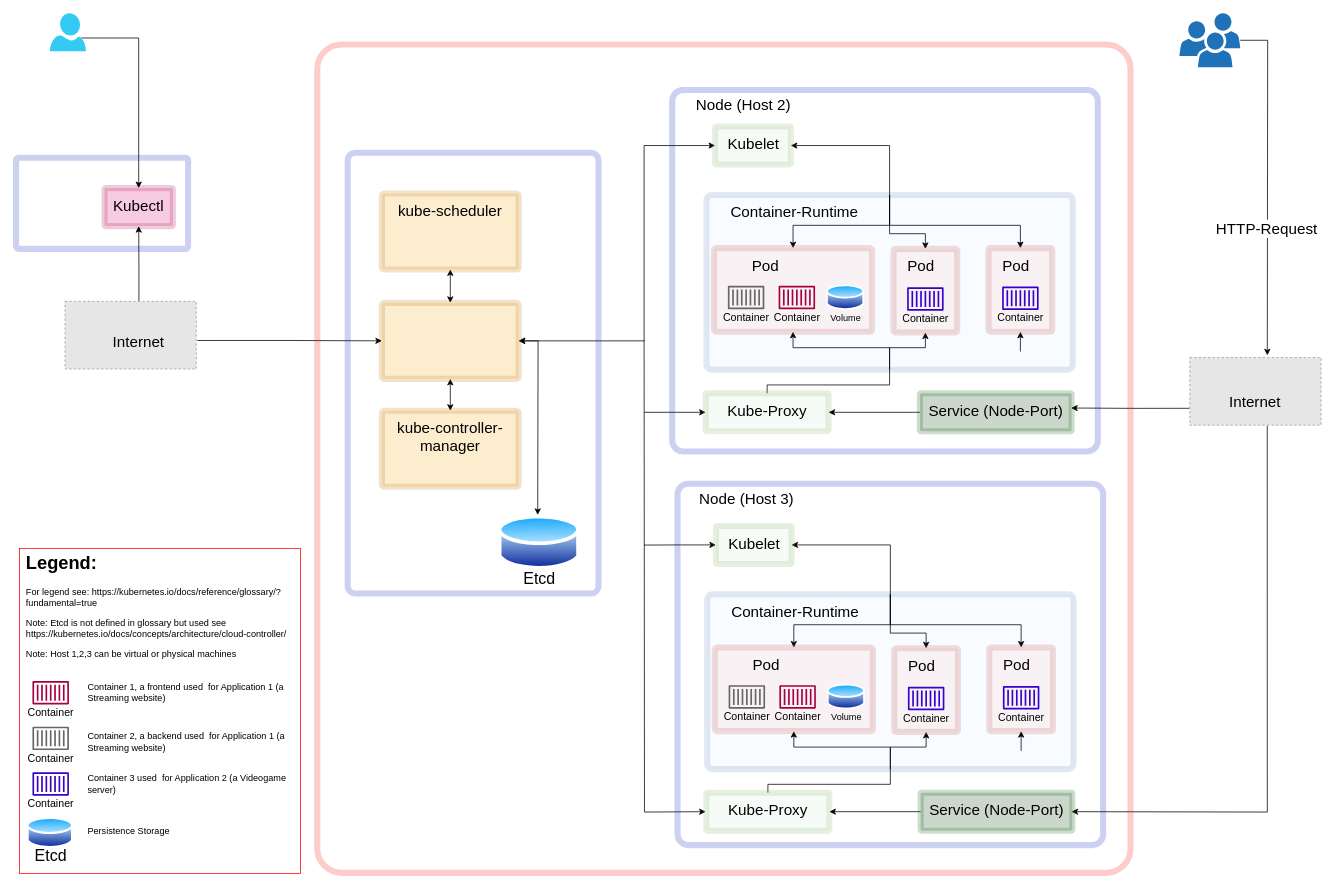
Image size: 1335x888. Some labels were removed from this diagram. Grey dashed boxes stand in for pictures. Here are the shapes that lost their labels. From the top down, the box of each, then its label:
(49, 13, 86, 51): DevOps/ Developer
(1179, 13, 1240, 67): Users
(13, 154, 191, 252): myComputer
(378, 299, 521, 382): API server
(344, 149, 601, 596): Master (Host 1)
(314, 41, 1133, 876): Cluster
